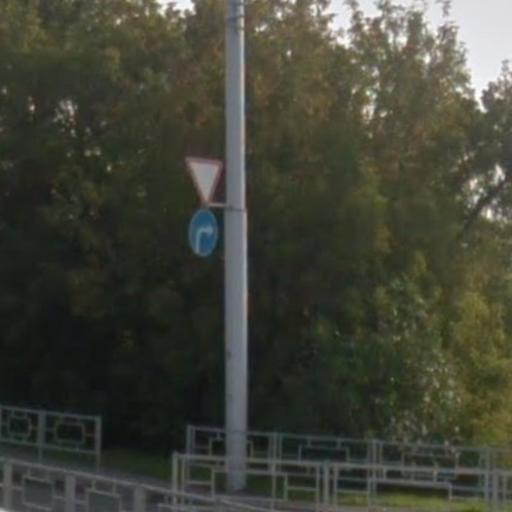traffic_sign: (181, 152, 231, 211)
